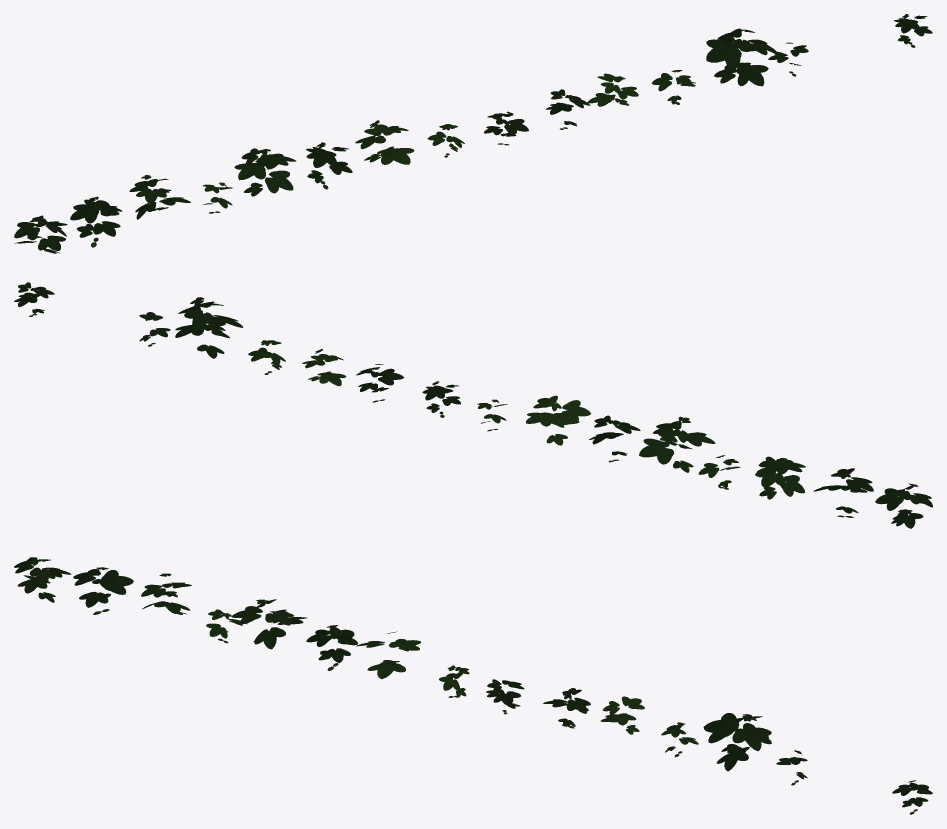
The model's file is ROW_19_SEG3_foliage.dae.
3 renders of one model, top to bottom at view 1: azimuth 30°, elevation 25°; view 2: azimuth 150°, elevation 25°; view 3: azimuth 330°, elevation 25°, orthographic.
Parts seen in each view (by area): view 1: ROW_19_SEG3_foliage; view 2: ROW_19_SEG3_foliage; view 3: ROW_19_SEG3_foliage.
Part boxes in pixels (x1,y1,x2,y2): ROW_19_SEG3_foliage: (14, 14, 932, 253); ROW_19_SEG3_foliage: (14, 282, 932, 528); ROW_19_SEG3_foliage: (14, 557, 932, 814).
Size of the model in its own units: 4.8 by 0.3771 by 0.2931.
